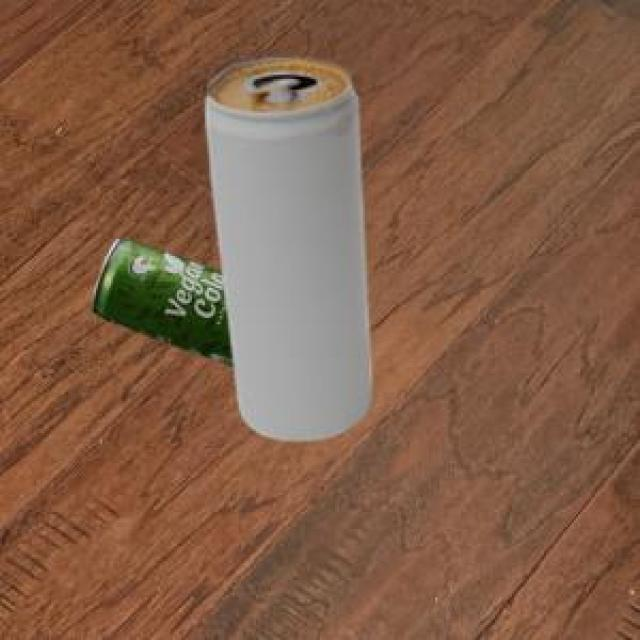logam: (204, 54, 370, 438), (89, 236, 230, 364)
